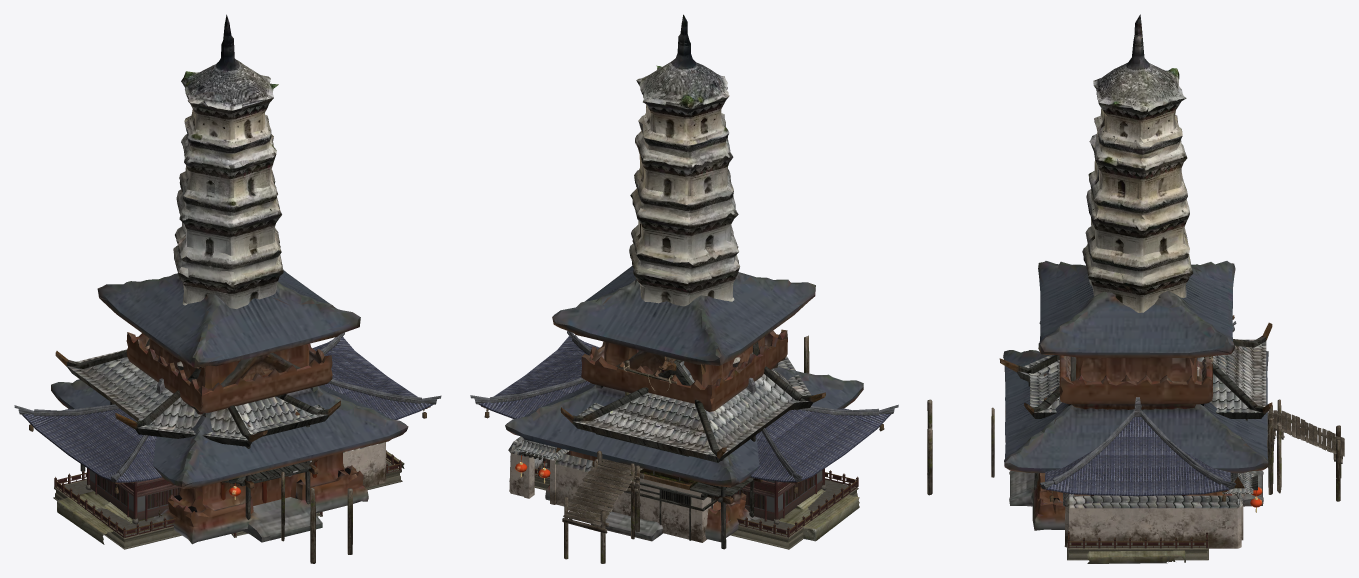
Rendered from arch.glb.
3 views of the same model, side by side, from view 1: azimuth 30°, elevation 25°; view 2: azimuth 150°, elevation 25°; view 3: azimuth 270°, elevation 25° (orthographic).
Parts seen in each view (by area): view 1: LO (×3), ROOF_WOODWORK3_StingrayPBSroof_0, KF_Building_017b04_0_Material.099_0, KF_Building_017b04_1_Material.100_0, m_qp_bridge, KF_Building_017b04_3_Material.102_0, KF_Building_017b04_2_Material.101_0, PLASTER_OVEN1_StingrayPBSwalls_0, modular_wooden_pier_poles, KF_Building_017b04_4_Material.103_0; view 2: LO (×3), ROOF_WOODWORK3_StingrayPBSroof_0, KF_Building_017b04_0_Material.099_0, PLASTER_OVEN1_StingrayPBSwalls_0, modular_wooden_pier_planks, KF_Building_017b04_1_Material.100_0, m_qp_bridge, modular_wooden_pier_section_01, KF_Building_017b04_2_Material.101_0, KF_Building_017b04_3_Material.102_0, KF_Building_017b04_4_Material.103_0; view 3: LO (×3), KF_Building_017b04_0_Material.099_0, PLASTER_OVEN1_StingrayPBSwalls_0, ROOF_WOODWORK3_StingrayPBSroof_0, modular_wooden_pier_planks, modular_wooden_pier_section_01, m_qp_bridge, KF_Building_017b04_3_Material.102_0, KF_Building_017b04_1_Material.100_0, modular_wooden_pier_poles.
Part boxes in pixels (x1,y1,x2,y2): LO (×3): (51,14,408,544); ROOF_WOODWORK3_StingrayPBSroof_0: (55,339,340,519); KF_Building_017b04_0_Material.099_0: (14,332,441,483); KF_Building_017b04_1_Material.100_0: (29,408,427,537); m_qp_bridge: (57,451,404,544); KF_Building_017b04_3_Material.102_0: (53,458,402,549); KF_Building_017b04_2_Material.101_0: (89,470,178,520); PLASTER_OVEN1_StingrayPBSwalls_0: (343,442,386,487); modular_wooden_pier_poles: (281,471,352,563); KF_Building_017b04_4_Material.103_0: (58,461,397,536); LO (×3): (505,14,863,542); ROOF_WOODWORK3_StingrayPBSroof_0: (515,329,825,549); KF_Building_017b04_0_Material.099_0: (470,331,898,483); PLASTER_OVEN1_StingrayPBSwalls_0: (508,436,713,542); modular_wooden_pier_planks: (562,365,671,533); KF_Building_017b04_1_Material.100_0: (484,408,884,537); m_qp_bridge: (757,487,859,541); modular_wooden_pier_section_01: (564,360,676,563); KF_Building_017b04_2_Material.101_0: (546,459,822,520); KF_Building_017b04_3_Material.102_0: (509,475,858,549); KF_Building_017b04_4_Material.103_0: (534,467,854,535); LO (×3): (1003,14,1268,530); KF_Building_017b04_0_Material.099_0: (1039,321,1236,496); PLASTER_OVEN1_StingrayPBSwalls_0: (1063,366,1253,548); ROOF_WOODWORK3_StingrayPBSroof_0: (999,315,1272,512); modular_wooden_pier_planks: (1204,357,1344,466); modular_wooden_pier_section_01: (1205,356,1342,501); m_qp_bridge: (1087,550,1185,563); KF_Building_017b04_3_Material.102_0: (1067,541,1208,560); KF_Building_017b04_1_Material.100_0: (1049,491,1226,548); modular_wooden_pier_poles: (927,399,994,495).
Size of the model in its own units: 17.47 by 24 by 19.02.
17 materials, 17 textured.
